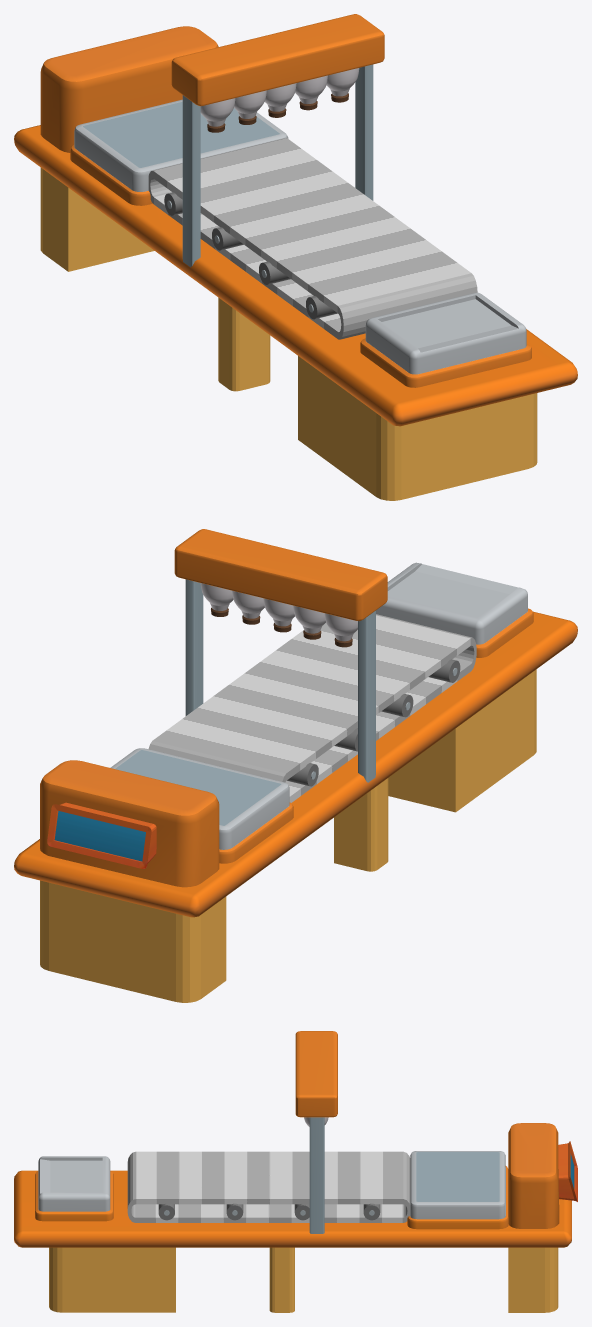
File: machine3.fbx
3 renders of one model, top to bottom at view 1: azimuth 30°, elevation 25°; view 2: azimuth 150°, elevation 25°; view 3: azimuth 270°, elevation 25°, orthographic. The views are drawn at different scales.
Parts seen in each view (by area): view 1: Cube.002, Plane.001, pCube13, pCube17, pCube16, pCube69, pCube14, pCube15, pCylinder6, pCylinder11, pCylinder8, pCylinder7 (+1 smaller); view 2: Cube.002, Plane.001, pCube13, pCube16, pCube17, pCube69, polySurface1, pCube14, pCube15, pCylinder6, pCylinder7, pCylinder8 (+2 smaller); view 3: Cube.002, Plane.001, pCube13, pCube69, pCube17, pCube16, pCube15, polySurface1.
Part boxes in pixels (left/top/right/bottom): Cube.002: left=40, top=26, right=537, bottom=500; Plane.001: left=148, top=138, right=477, bottom=339; pCube13: left=14, top=125, right=577, bottom=426; pCube17: left=360, top=292, right=531, bottom=387; pCube16: left=171, top=14, right=384, bottom=106; pCube69: left=70, top=99, right=288, bottom=205; pCube14: left=182, top=95, right=200, bottom=267; pCube15: left=355, top=64, right=373, bottom=200; pCylinder6: left=200, top=98, right=235, bottom=132; pCylinder11: left=326, top=68, right=359, bottom=102; pCylinder8: left=295, top=75, right=327, bottom=110; pCylinder7: left=234, top=90, right=266, bottom=124; Cube.002: left=40, top=669, right=536, bottom=1002; Plane.001: left=148, top=614, right=476, bottom=802; pCube13: left=14, top=611, right=577, bottom=917; pCube16: left=174, top=529, right=387, bottom=621; pCube17: left=376, top=562, right=533, bottom=657; pCube69: left=110, top=748, right=293, bottom=863; polySurface1: left=47, top=802, right=156, bottom=868; pCube14: left=358, top=610, right=375, bottom=782; pCube15: left=185, top=579, right=203, bottom=715; pCylinder6: left=324, top=613, right=357, bottom=647; pCylinder7: left=293, top=605, right=325, bottom=639; pCylinder8: left=232, top=590, right=264, bottom=624; Cube.002: left=49, top=1123, right=559, bottom=1312; Plane.001: left=127, top=1151, right=410, bottom=1222; pCube13: left=14, top=1170, right=571, bottom=1247; pCube69: left=407, top=1151, right=508, bottom=1229; pCube17: left=35, top=1156, right=113, bottom=1221; pCube16: left=295, top=1031, right=337, bottom=1117; pCube15: left=309, top=1117, right=324, bottom=1233; polySurface1: left=558, top=1141, right=577, bottom=1201.
Size of the model in its own units: 362 by 561 by 1296.
Materials: 2 (2 with a texture image).
